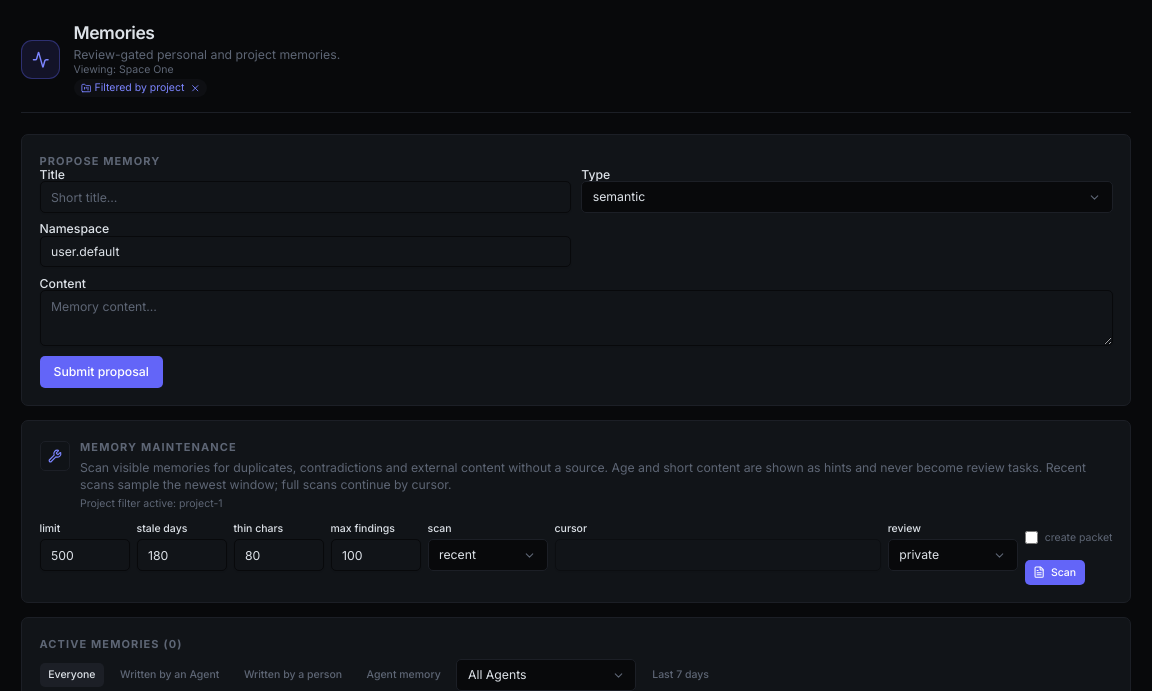
Test: MemoriesPage maintenance UI › runs a project-filtered maintenance scan and creates a claim candidate packet from the report
Click the button "Scan" at [1055, 573], box x1=1025 y1=560 x2=1085 y2=585
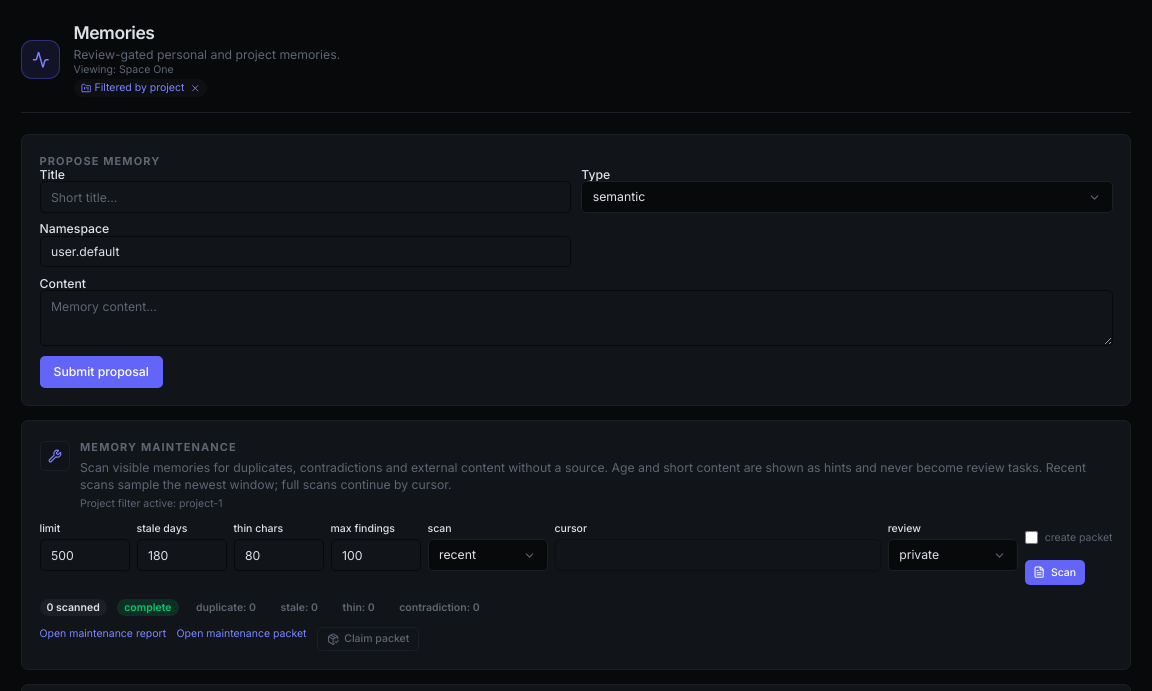
Click the button "Claim packet" at [368, 639], box x1=317 y1=627 x2=419 y2=651
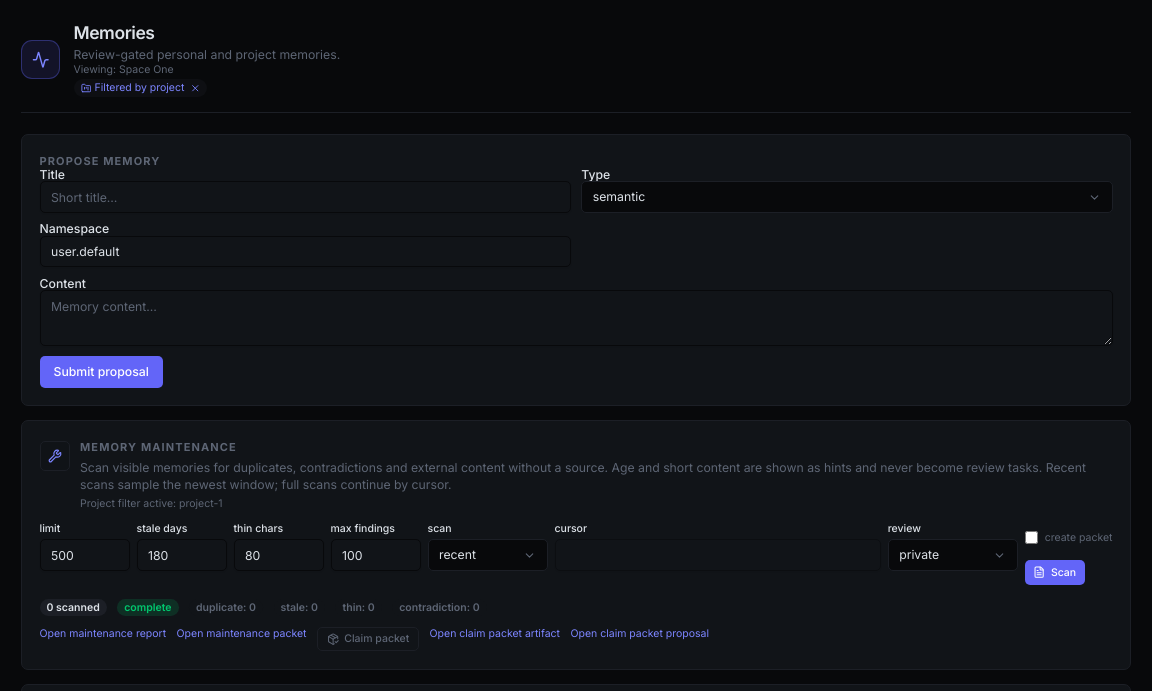
Result: the link "Open claim packet proposal" is shown at x1=570 y1=627 x2=709 y2=640
